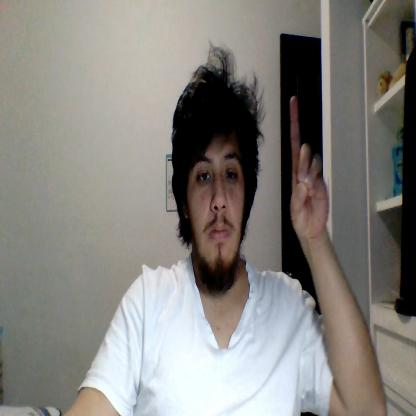D: (289, 95, 330, 239)
